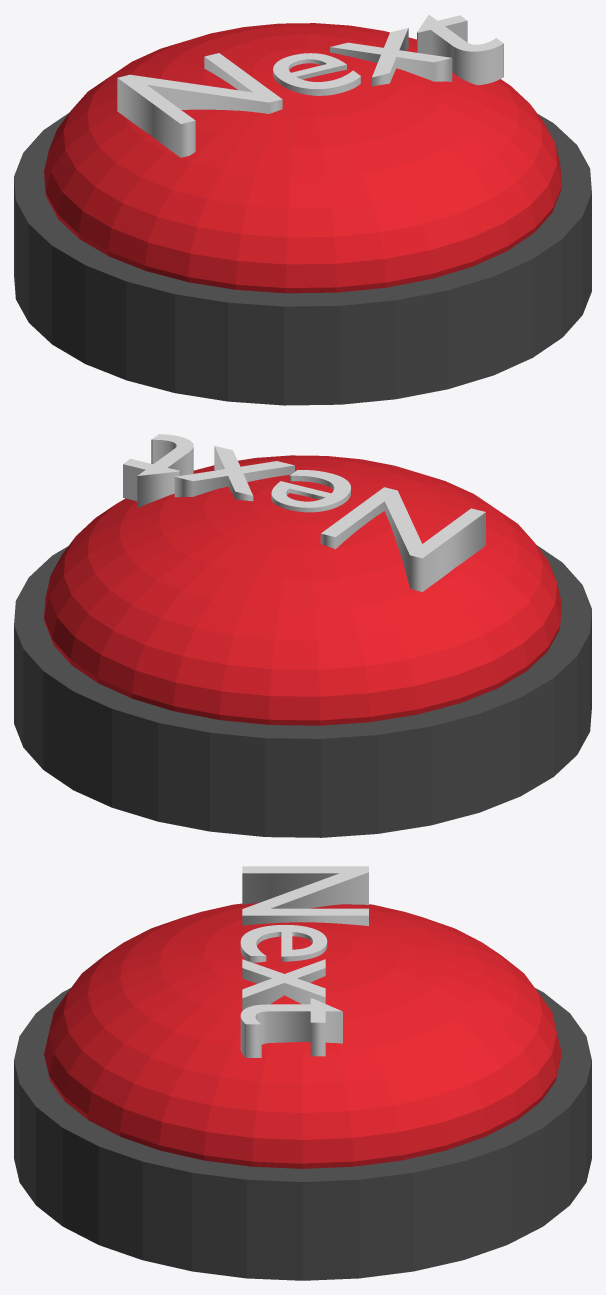
File: next_button.glb
3 renders of one model, top to bottom at view 1: azimuth 30°, elevation 25°; view 2: azimuth 150°, elevation 25°; view 3: azimuth 270°, elevation 25°, orthographic.
Visible parts, largest first — view 1: Sphere, Cylinder, Text; view 2: Sphere, Cylinder, Text; view 3: Sphere, Cylinder, Text.
Boxes of the visible parts, x1,y1,x2,y2 form: Sphere: [44, 23, 561, 293]; Cylinder: [14, 112, 591, 405]; Text: [117, 14, 503, 157]; Sphere: [44, 455, 561, 725]; Cylinder: [14, 545, 591, 837]; Text: [123, 434, 485, 591]; Sphere: [44, 903, 561, 1168]; Cylinder: [14, 988, 591, 1280]; Text: [240, 866, 368, 1057].
Size of the model in its own units: 2 by 0.8557 by 2.
